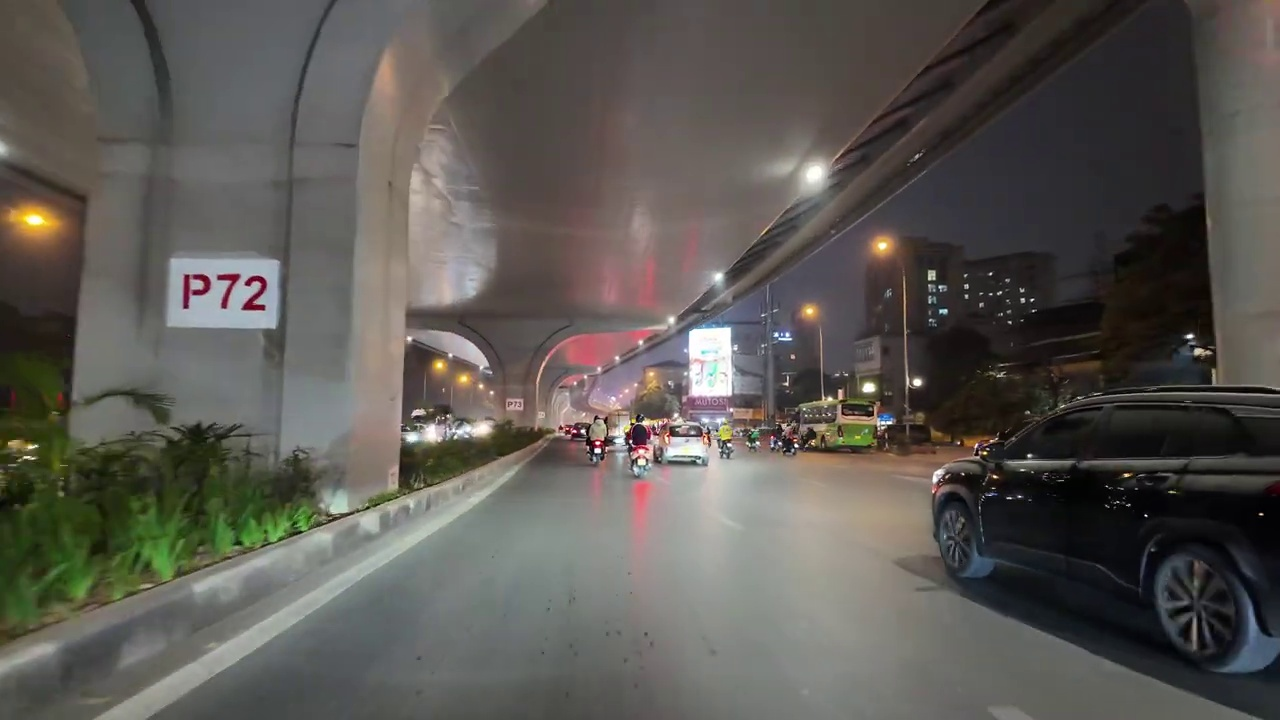acesa: (12, 204, 60, 243), (800, 161, 829, 188), (868, 235, 895, 258), (799, 301, 821, 322)
